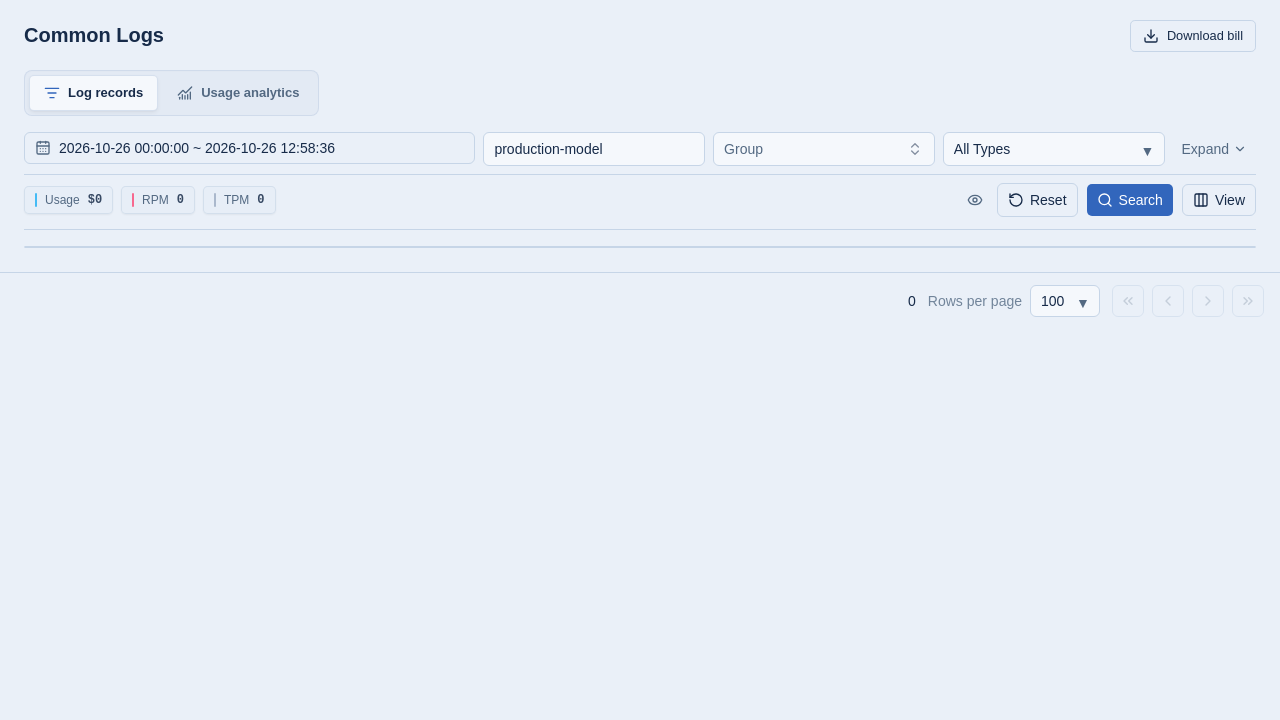
Scenario: signal-console preserves bill download and URL filters when switching analytics and returning
The image size is (1280, 720).
Expected: the button "Search" is shown, [1086,183,1174,217]
Expected: the button with aria-label "Download usage bill" is shown, [1130,20,1256,52]
Click the tab "Usage analytics" at (238, 93), box [162,75,314,111]
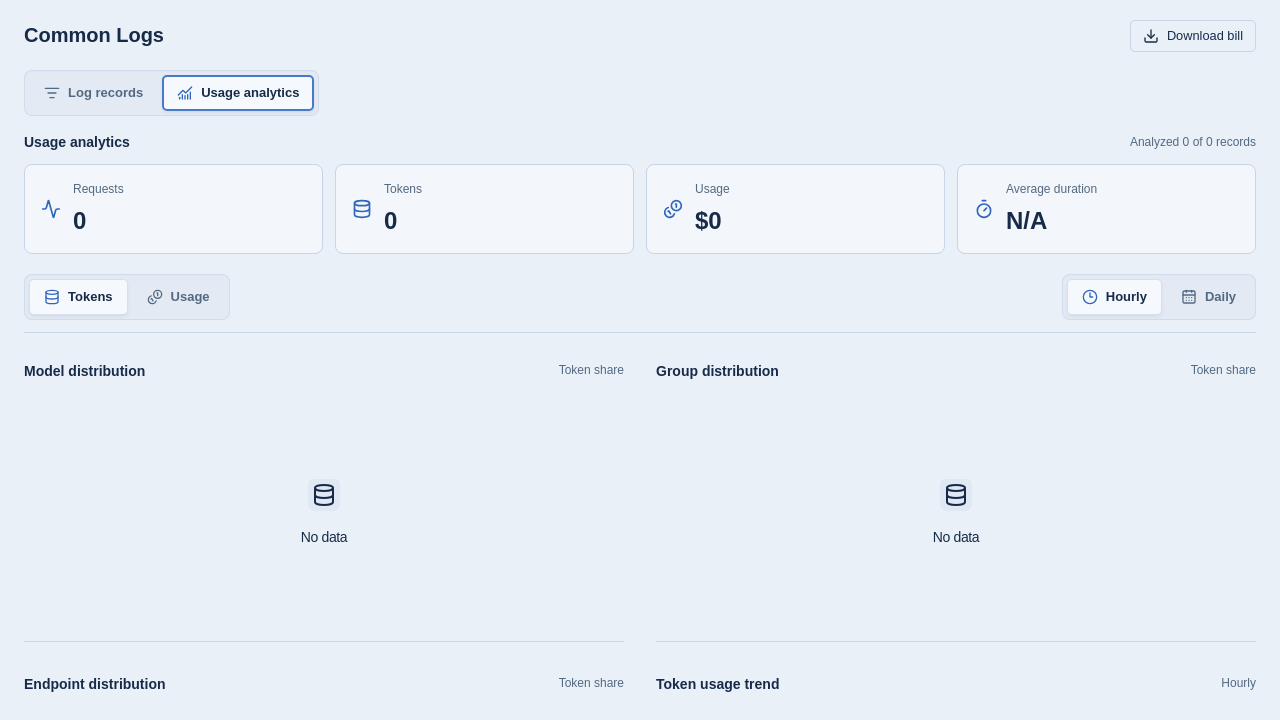
Expected: the button with aria-label "Download usage bill" is shown, [1130,20,1256,52]
Result: the button "Search" is gone
Click the tab "Log records" at (94, 93), box [29,75,158,111]
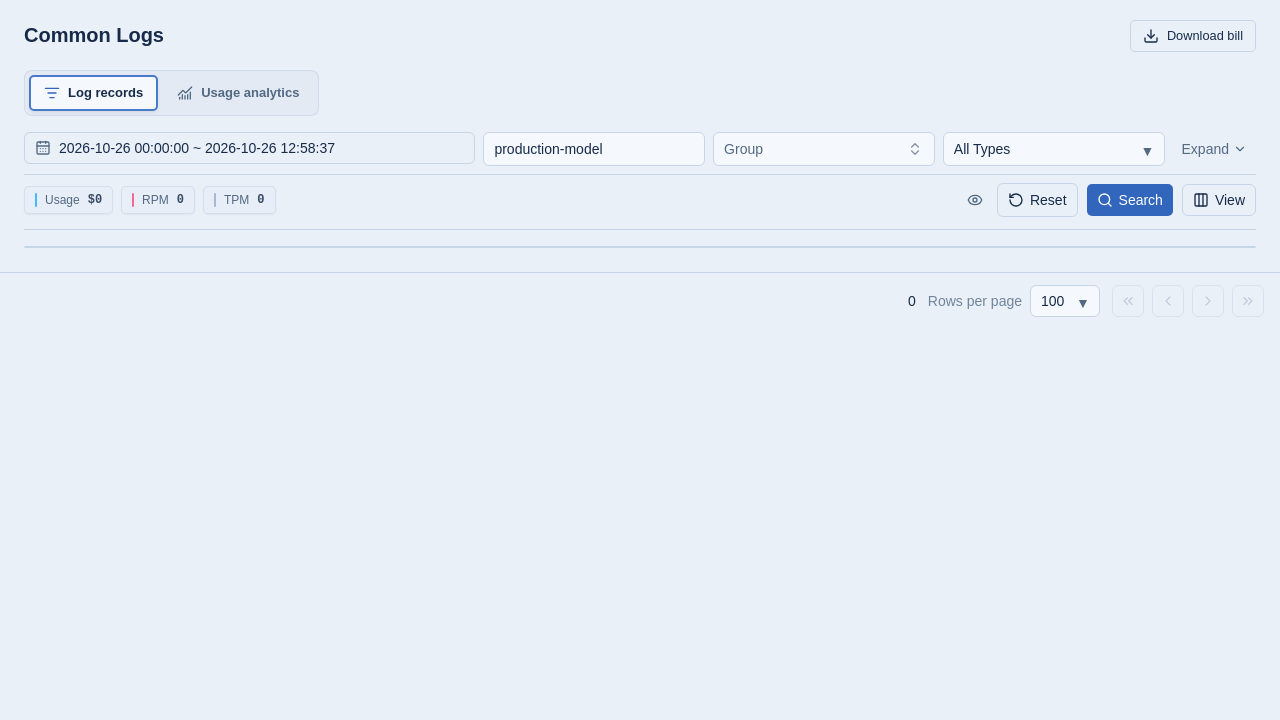
Expected: the button with aria-label "Download usage bill" is shown, [1130,20,1256,52]
Result: the button "Search" is shown at [1086,183,1174,217]
Result: the 3rd button named "Go to next page" is shown at [1192,285,1224,317]
